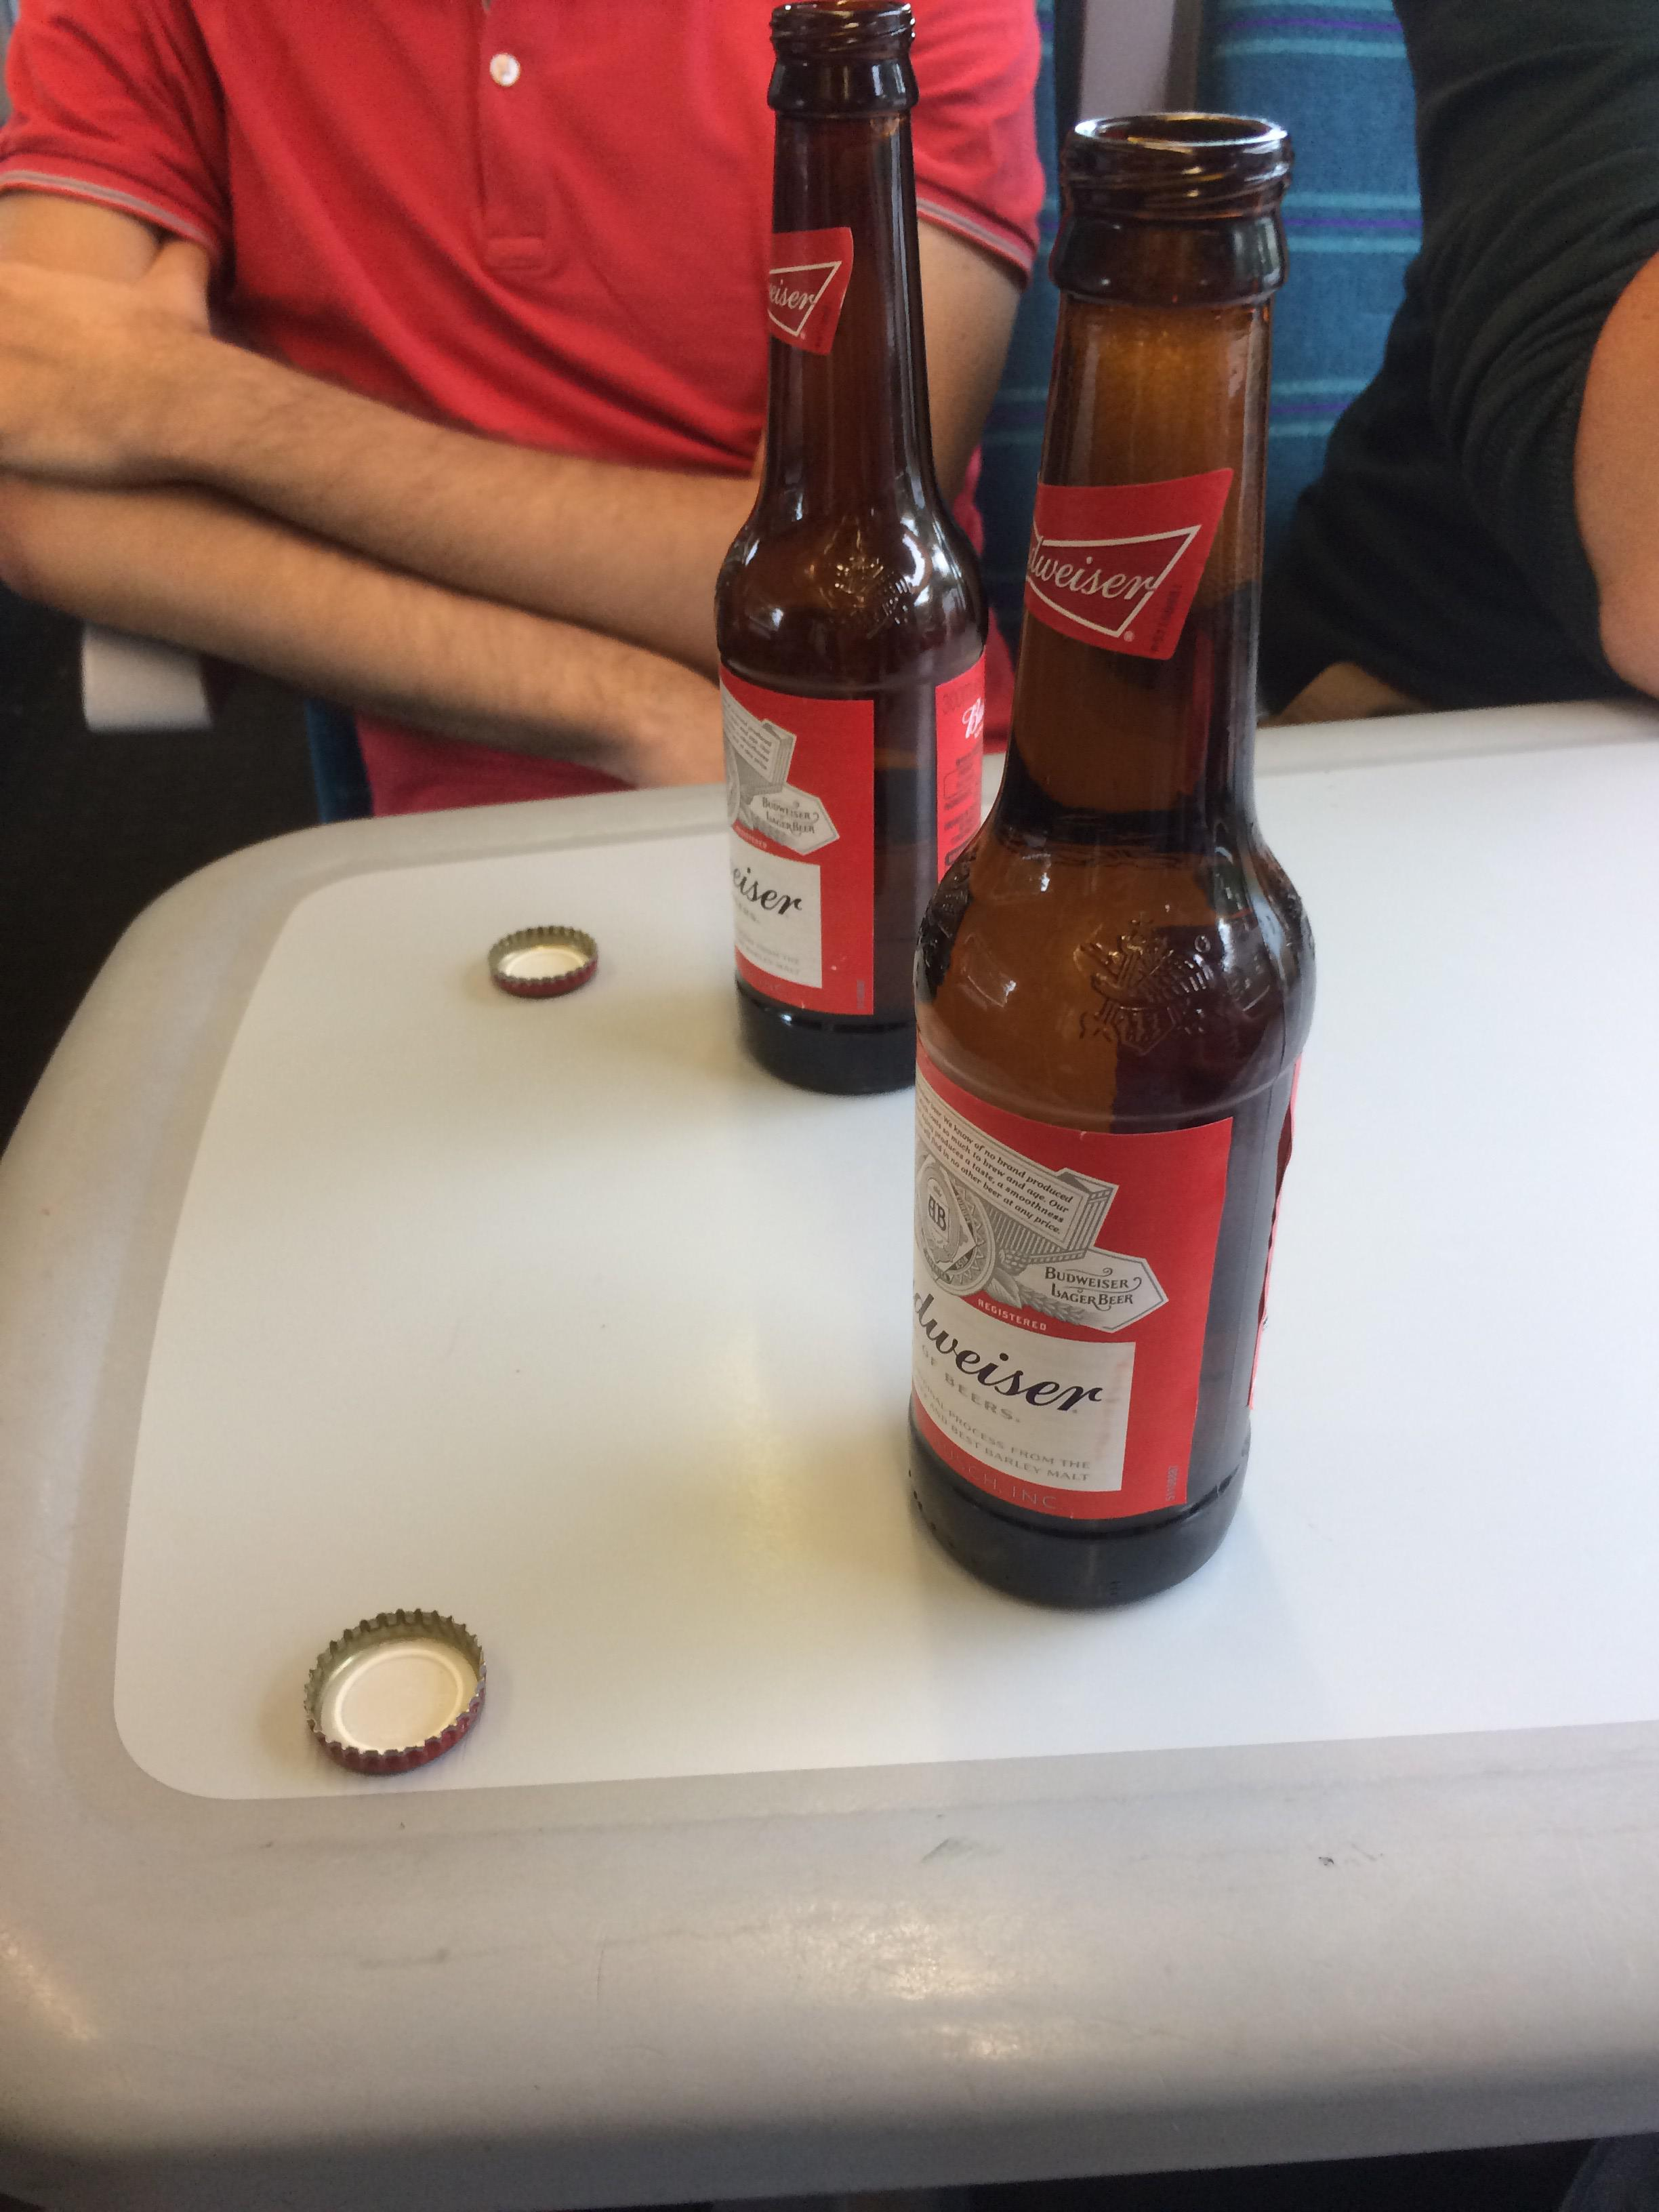Trash: (734, 7, 1310, 1637)
